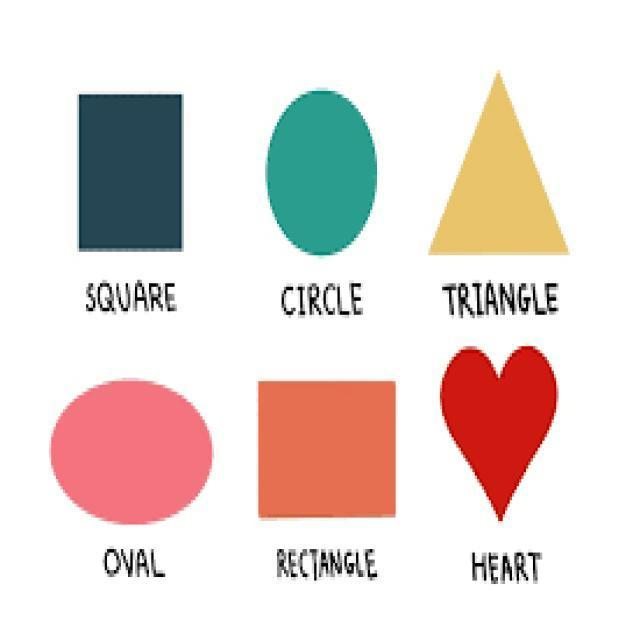circle: (245, 46, 406, 300), (40, 356, 225, 566)
square: (49, 60, 210, 314), (238, 348, 408, 577)
triangle: (416, 45, 590, 304)
